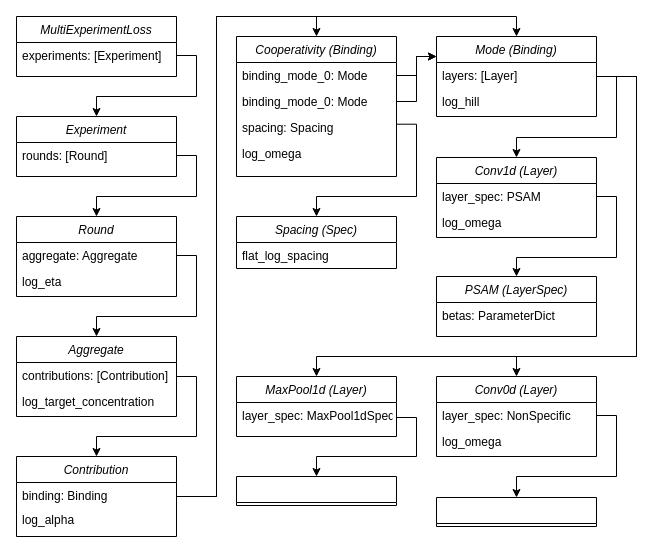
Some shapes in this 653 by 553 pixel diagram are drawn without their labels. Each missing label, with the centre of its shape:
"MaxPool1dSpec (LayerSpec)" goes at (316,491).
"Nonspecific (LayerSpec)" goes at (516,511).
